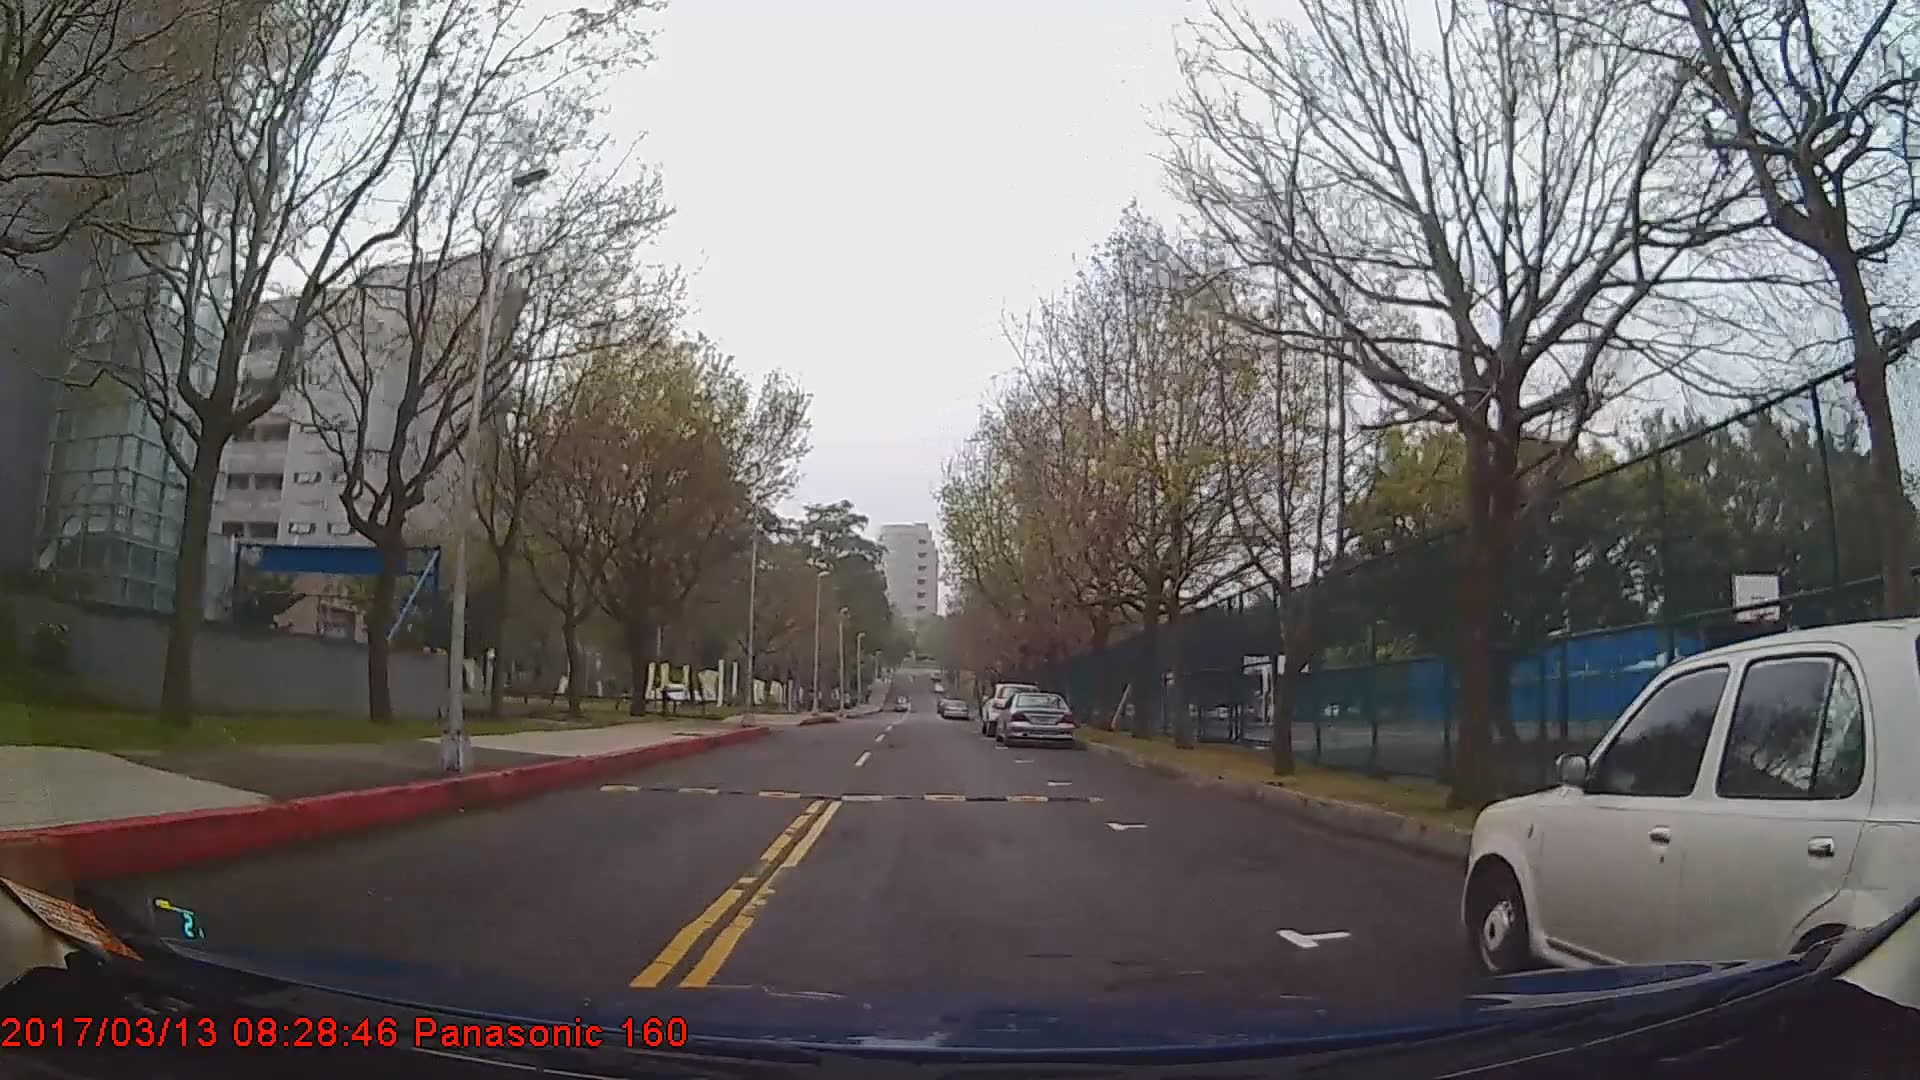vehicle: (1461, 617, 1917, 985), (994, 688, 1075, 745), (938, 695, 971, 721)
